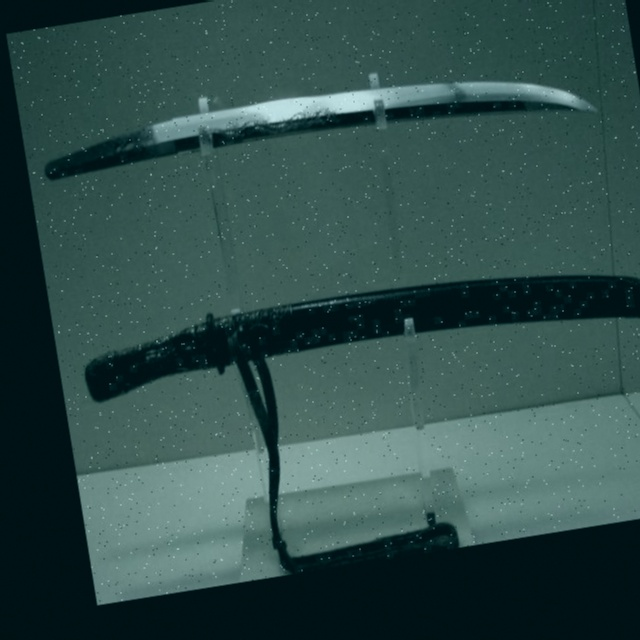Sharp-Object: (28, 39, 622, 217)
